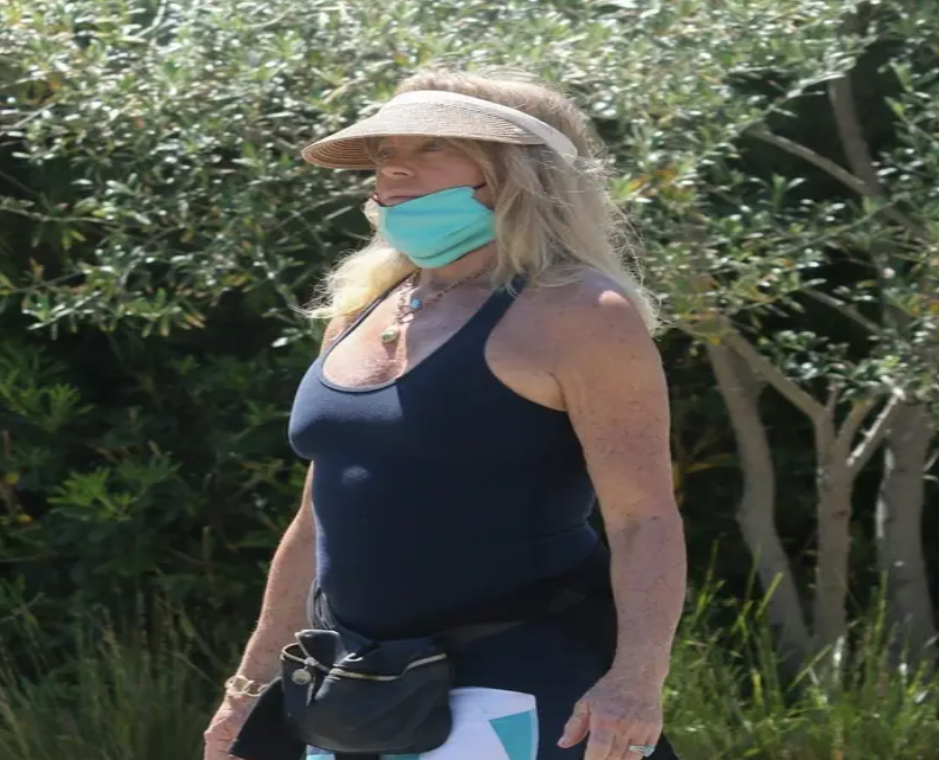mask_weared_incorrect: (315, 72, 593, 275)
